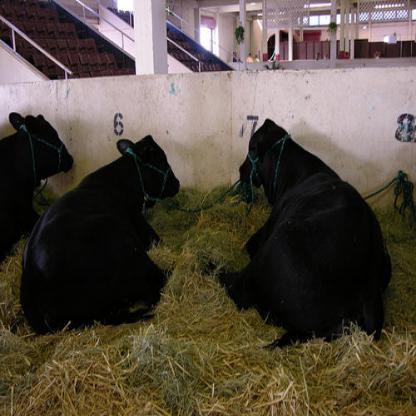cow: (214, 113, 392, 347), (14, 132, 183, 334), (0, 110, 79, 262)
